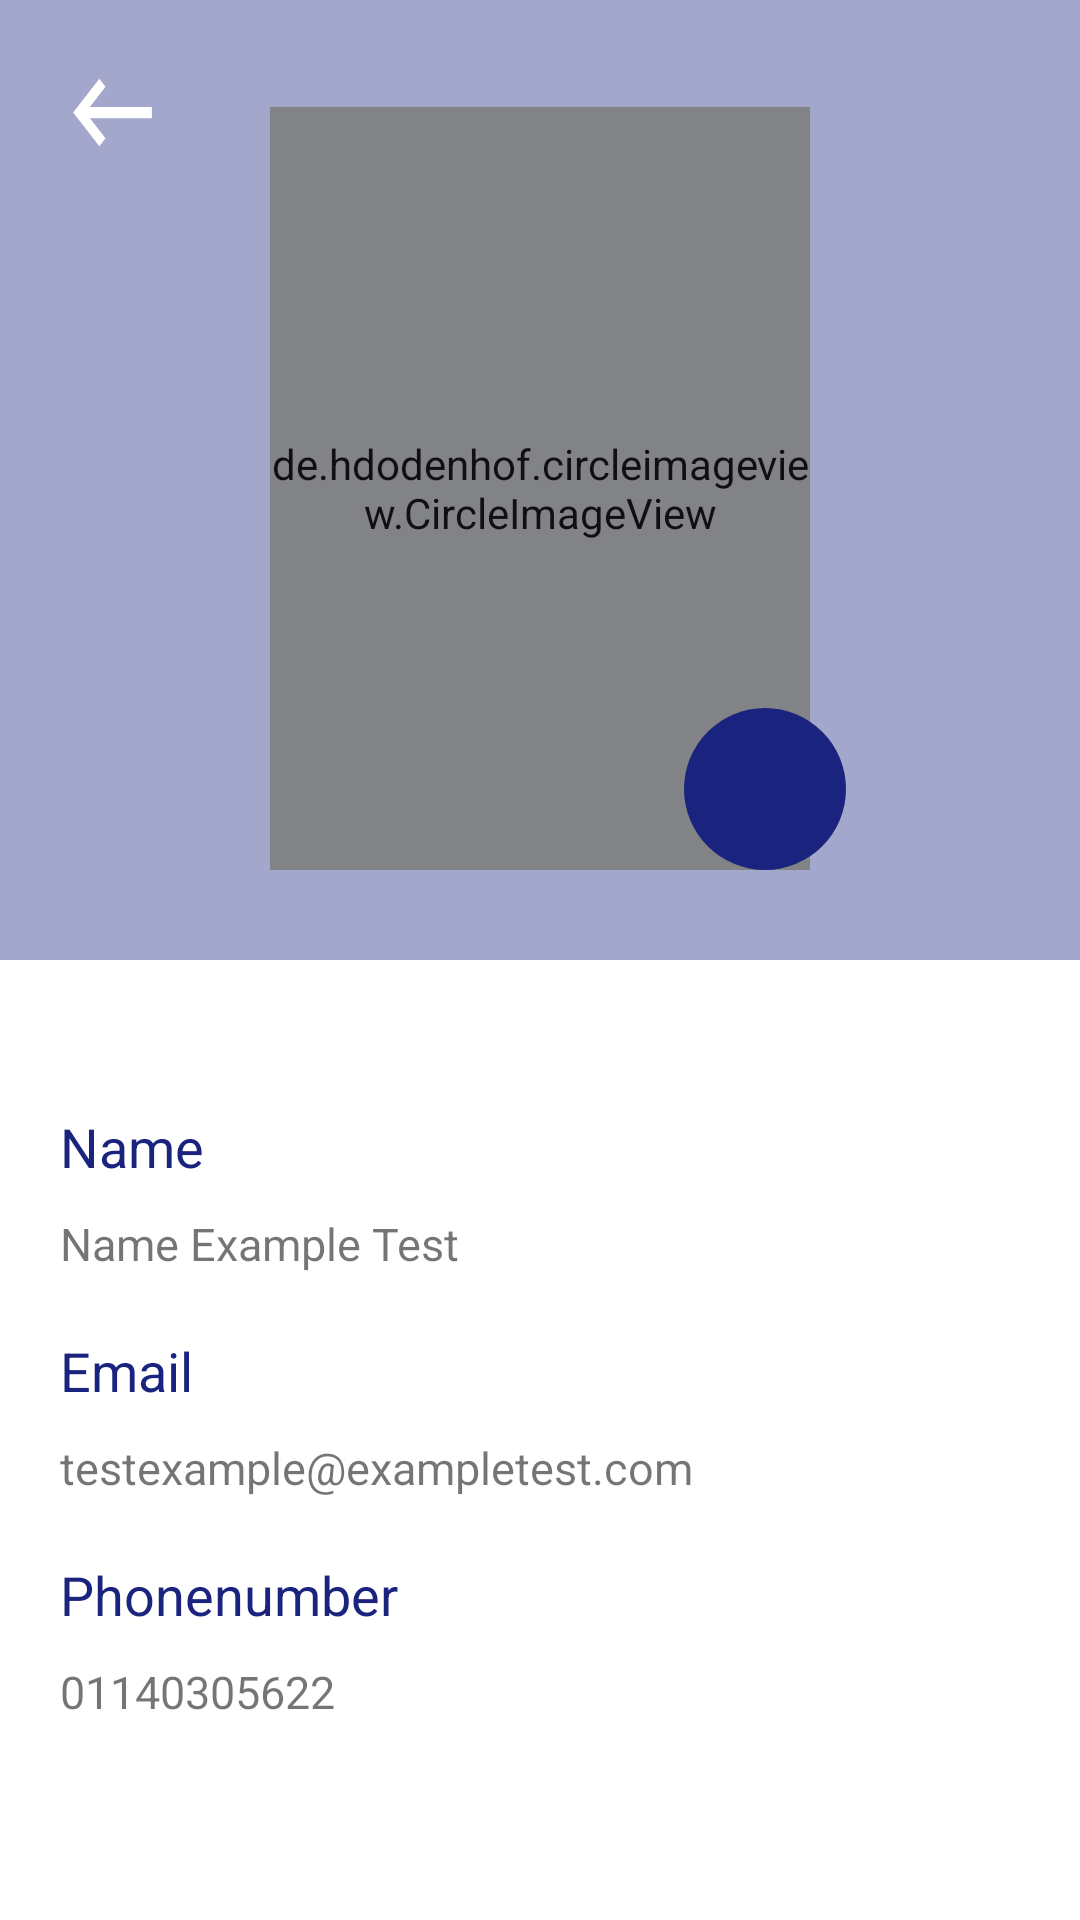

Where icons sit on this 1080×1920 app screen, as (x1, y1, x2, y2):
back: (73, 79, 152, 146)
